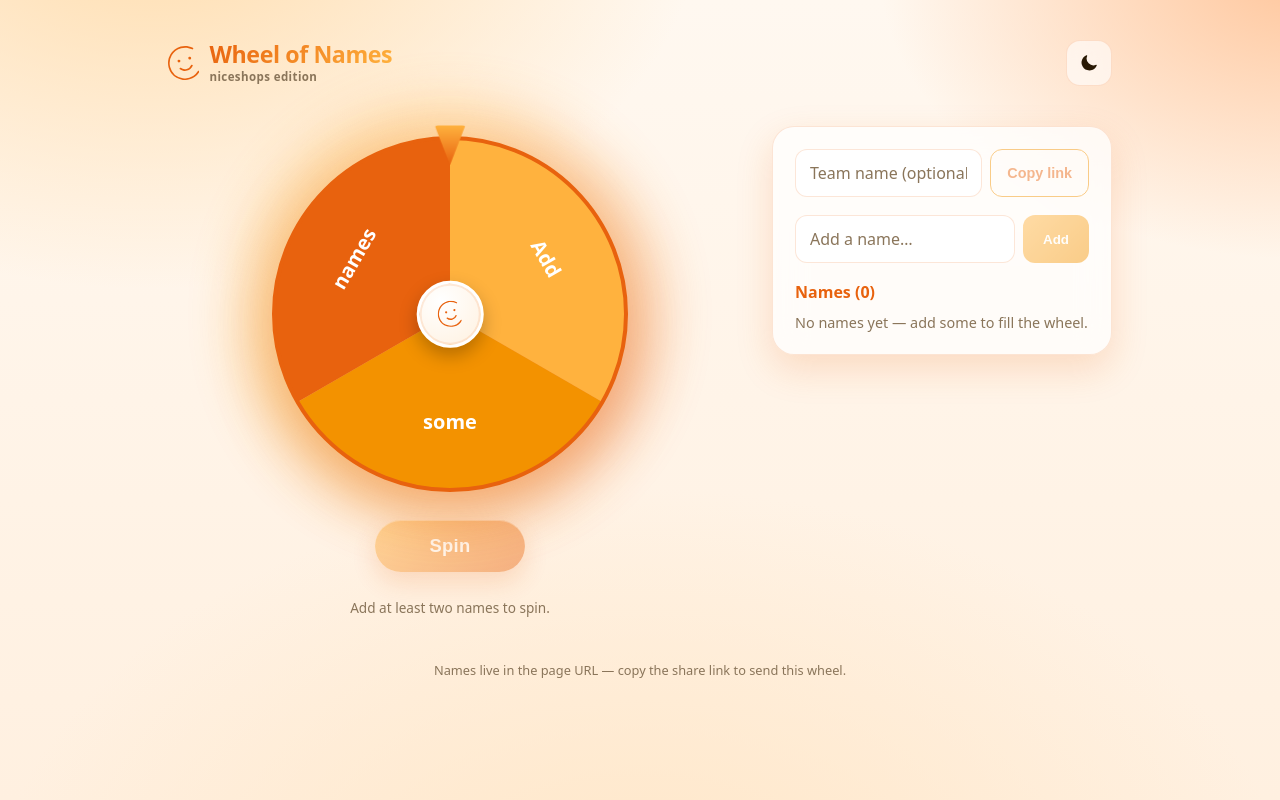
Test: App › removes a name
Type "Anna" into the field labelled "Add a name". click: (905,239)
box: [795, 215, 1015, 263]
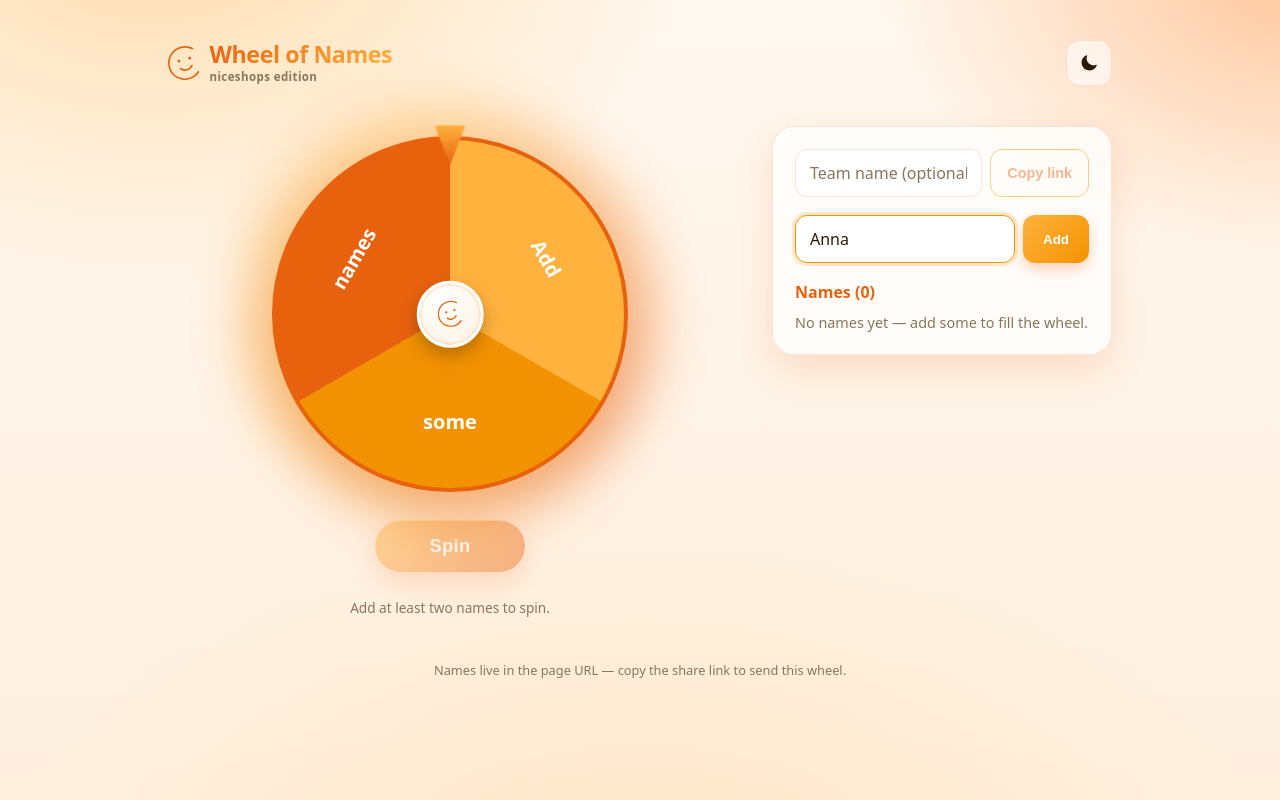
Click the button "Add". click: (1056,239)
box: [1023, 215, 1089, 263]
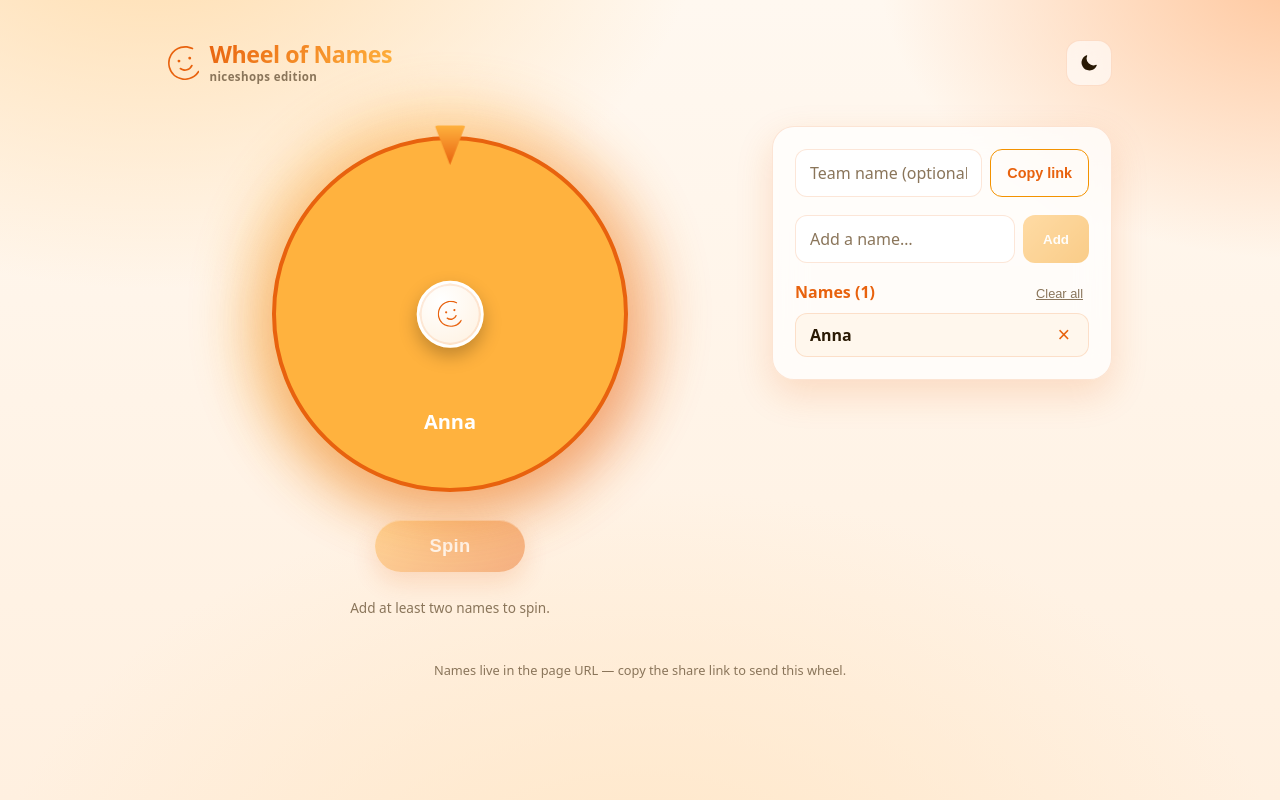
Click the button named "Remove Anna". click: (1064,335)
box: [1053, 324, 1074, 346]
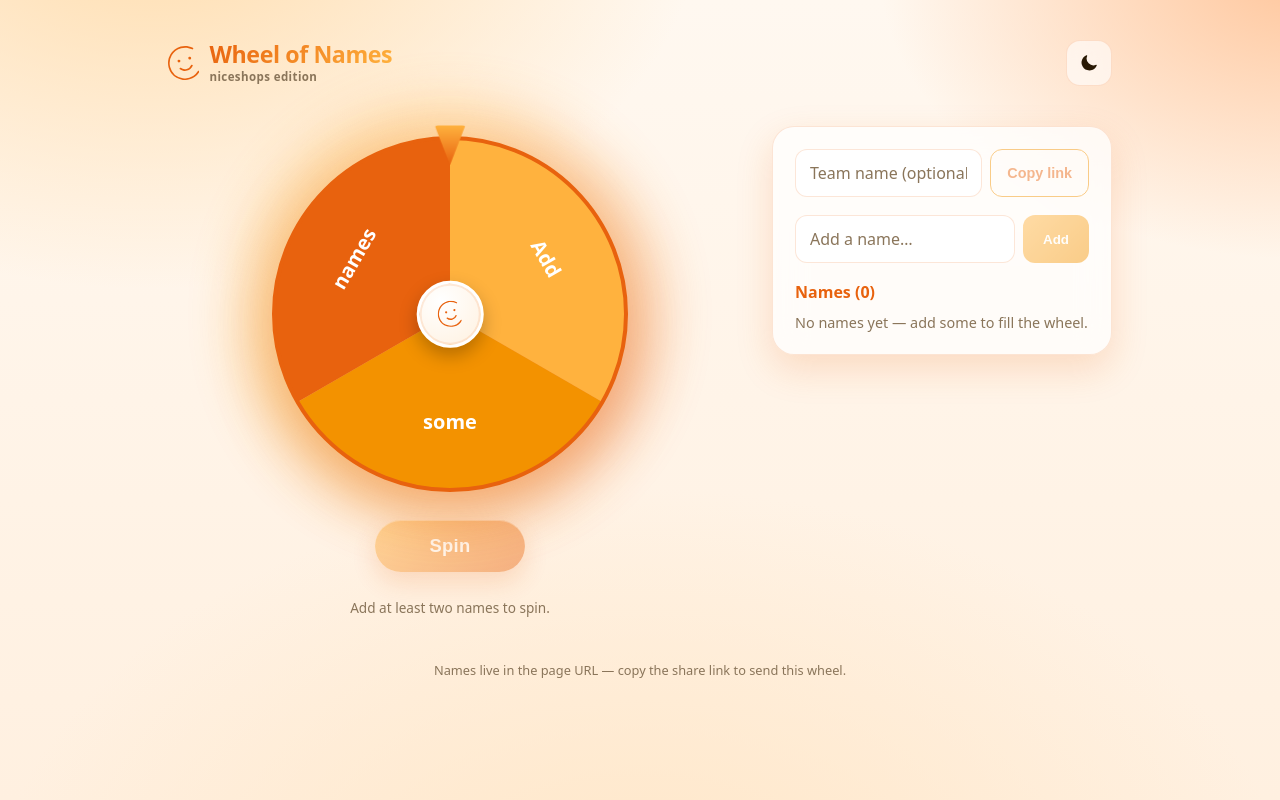
Now the heading "Names (0)" is shown, box [795, 281, 875, 303]
